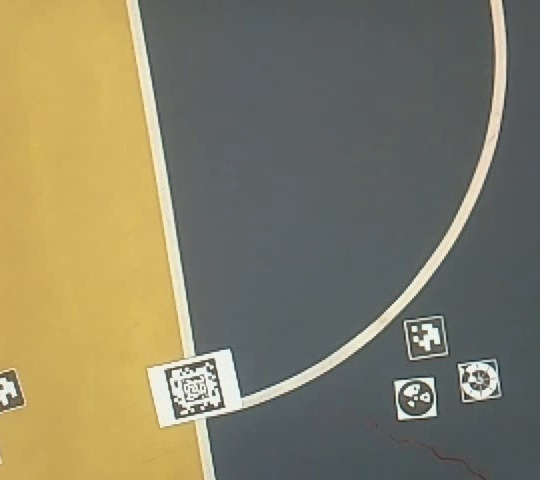landing-zone: (455, 355, 505, 404)
